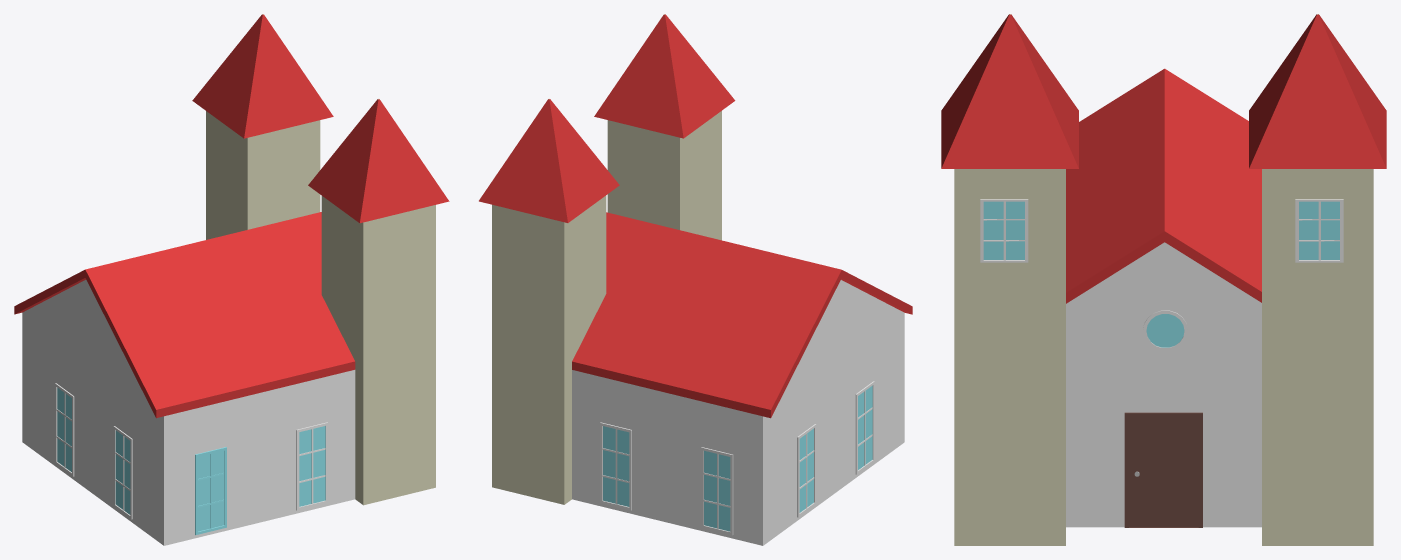
The model's file is 197dcefa-cd4d-442c-99a1-89843770c0d3.glb.
3 views of the same model, side by side, from view 1: azimuth 30°, elevation 25°; view 2: azimuth 150°, elevation 25°; view 3: azimuth 270°, elevation 25° (orthographic). The views are drawn at different scales.
Visible parts, largest first — view 1: Box037, Box040, Plane012, Plane017, Box042, Plane010, Plane011, Box036, Box035, Box043; view 2: Box037, Box040, Plane016, Plane015, Plane011, Box041, Box044, Plane010, Box043, Box035; view 3: Box040, Box037, Object002, Plane014, Plane013, Box038, Box034, Box039, Cylinder005.
Boxes of the visible parts, left/top/right/bottom form: Box037: left=14, top=212, right=355, bottom=545; Box040: left=192, top=14, right=449, bottom=505; Plane012: left=299, top=426, right=325, bottom=506; Plane017: left=198, top=450, right=224, bottom=531; Box042: left=296, top=422, right=328, bottom=510; Plane010: left=57, top=387, right=71, bottom=471; Plane011: left=115, top=430, right=130, bottom=514; Box036: left=195, top=447, right=226, bottom=535; Box035: left=55, top=383, right=74, bottom=476; Box043: left=113, top=426, right=132, bottom=519; Box037: left=572, top=212, right=912, bottom=545; Box040: left=479, top=14, right=735, bottom=504; Plane016: left=704, top=450, right=730, bottom=531; Plane015: left=603, top=426, right=629, bottom=506; Plane011: left=858, top=385, right=872, bottom=469; Box041: left=701, top=447, right=733, bottom=535; Box044: left=600, top=422, right=631, bottom=510; Plane010: left=799, top=428, right=813, bottom=512; Box043: left=855, top=381, right=874, bottom=474; Box035: left=797, top=424, right=816, bottom=517; Box040: left=941, top=14, right=1386, bottom=545; Box037: left=1066, top=68, right=1261, bottom=527; Object002: left=1129, top=418, right=1198, bottom=526; Plane014: left=983, top=201, right=1024, bottom=259; Plane013: left=1299, top=201, right=1339, bottom=259; Box038: left=1124, top=412, right=1202, bottom=527; Box034: left=1295, top=199, right=1343, bottom=262; Box039: left=980, top=199, right=1028, bottom=262; Cylinder005: left=1146, top=314, right=1184, bottom=347.
Size of the model in its own units: 47926 by 62452 by 49627.
